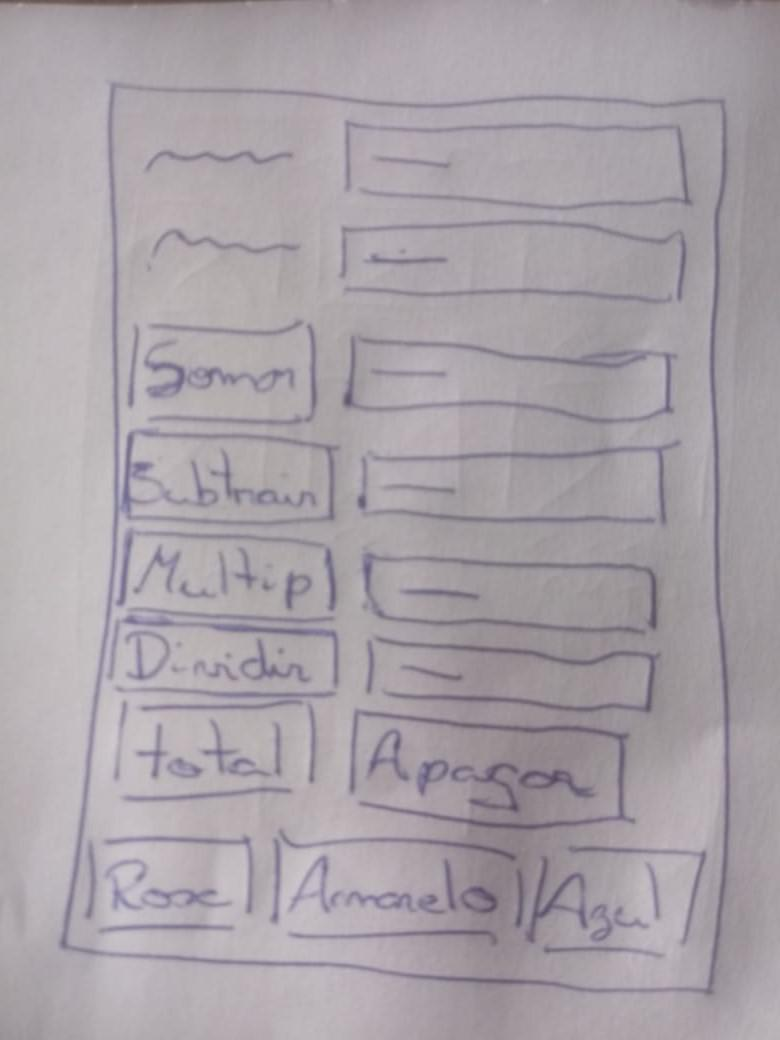Button: (352, 710, 626, 829), (274, 827, 525, 945), (113, 698, 316, 802), (122, 529, 336, 624), (126, 430, 336, 525), (129, 317, 315, 423), (530, 846, 705, 957), (111, 616, 340, 697), (89, 835, 253, 933)
Label: (146, 227, 304, 268), (143, 147, 293, 174)
Screen: (62, 84, 728, 994)
TextBox: (345, 117, 688, 211), (344, 333, 671, 426), (340, 220, 689, 301), (364, 552, 657, 637), (360, 445, 667, 526), (366, 636, 655, 715)
